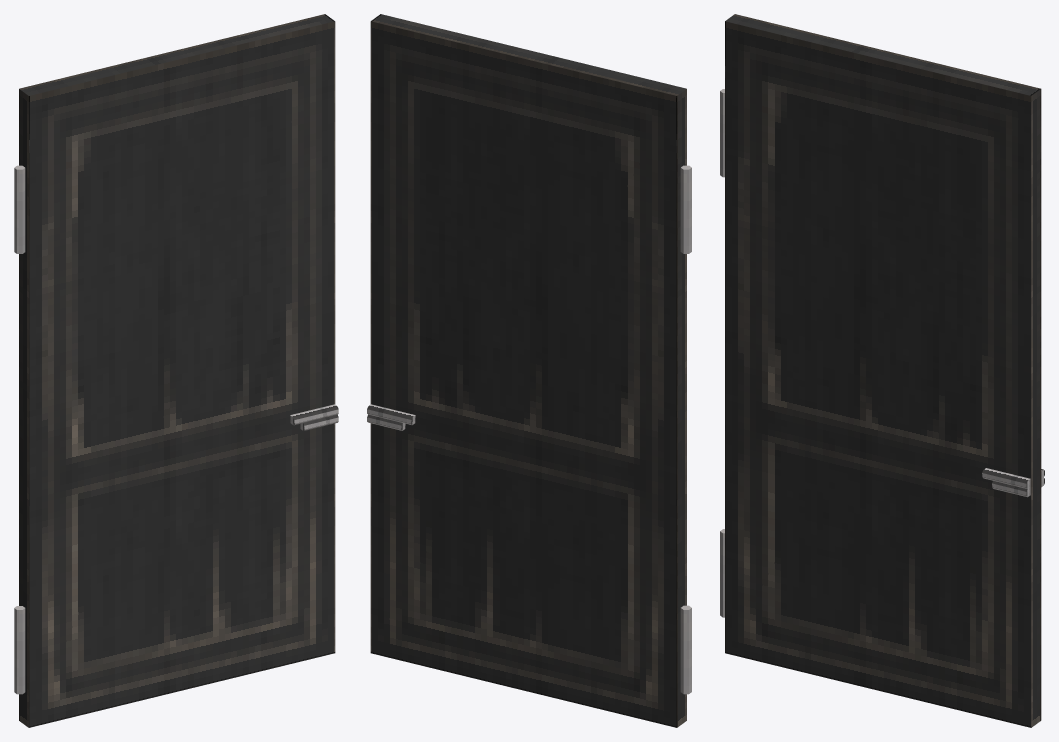
The model's file is door.glb.
3 views of the same model, side by side, from view 1: azimuth 30°, elevation 25°; view 2: azimuth 150°, elevation 25°; view 3: azimuth 330°, elevation 25° (orthographic).
Visible parts, largest first — view 1: Church1_Door_C; view 2: Church1_Door_C; view 3: Church1_Door_C.
Boxes of the visible parts, x1,y1,x2,y2 form: Church1_Door_C: (14, 14, 338, 727); Church1_Door_C: (367, 14, 691, 727); Church1_Door_C: (720, 14, 1044, 727).
Size of the model in its own units: 1.41 by 2.7 by 0.1402.
1 material, 1 textured.
